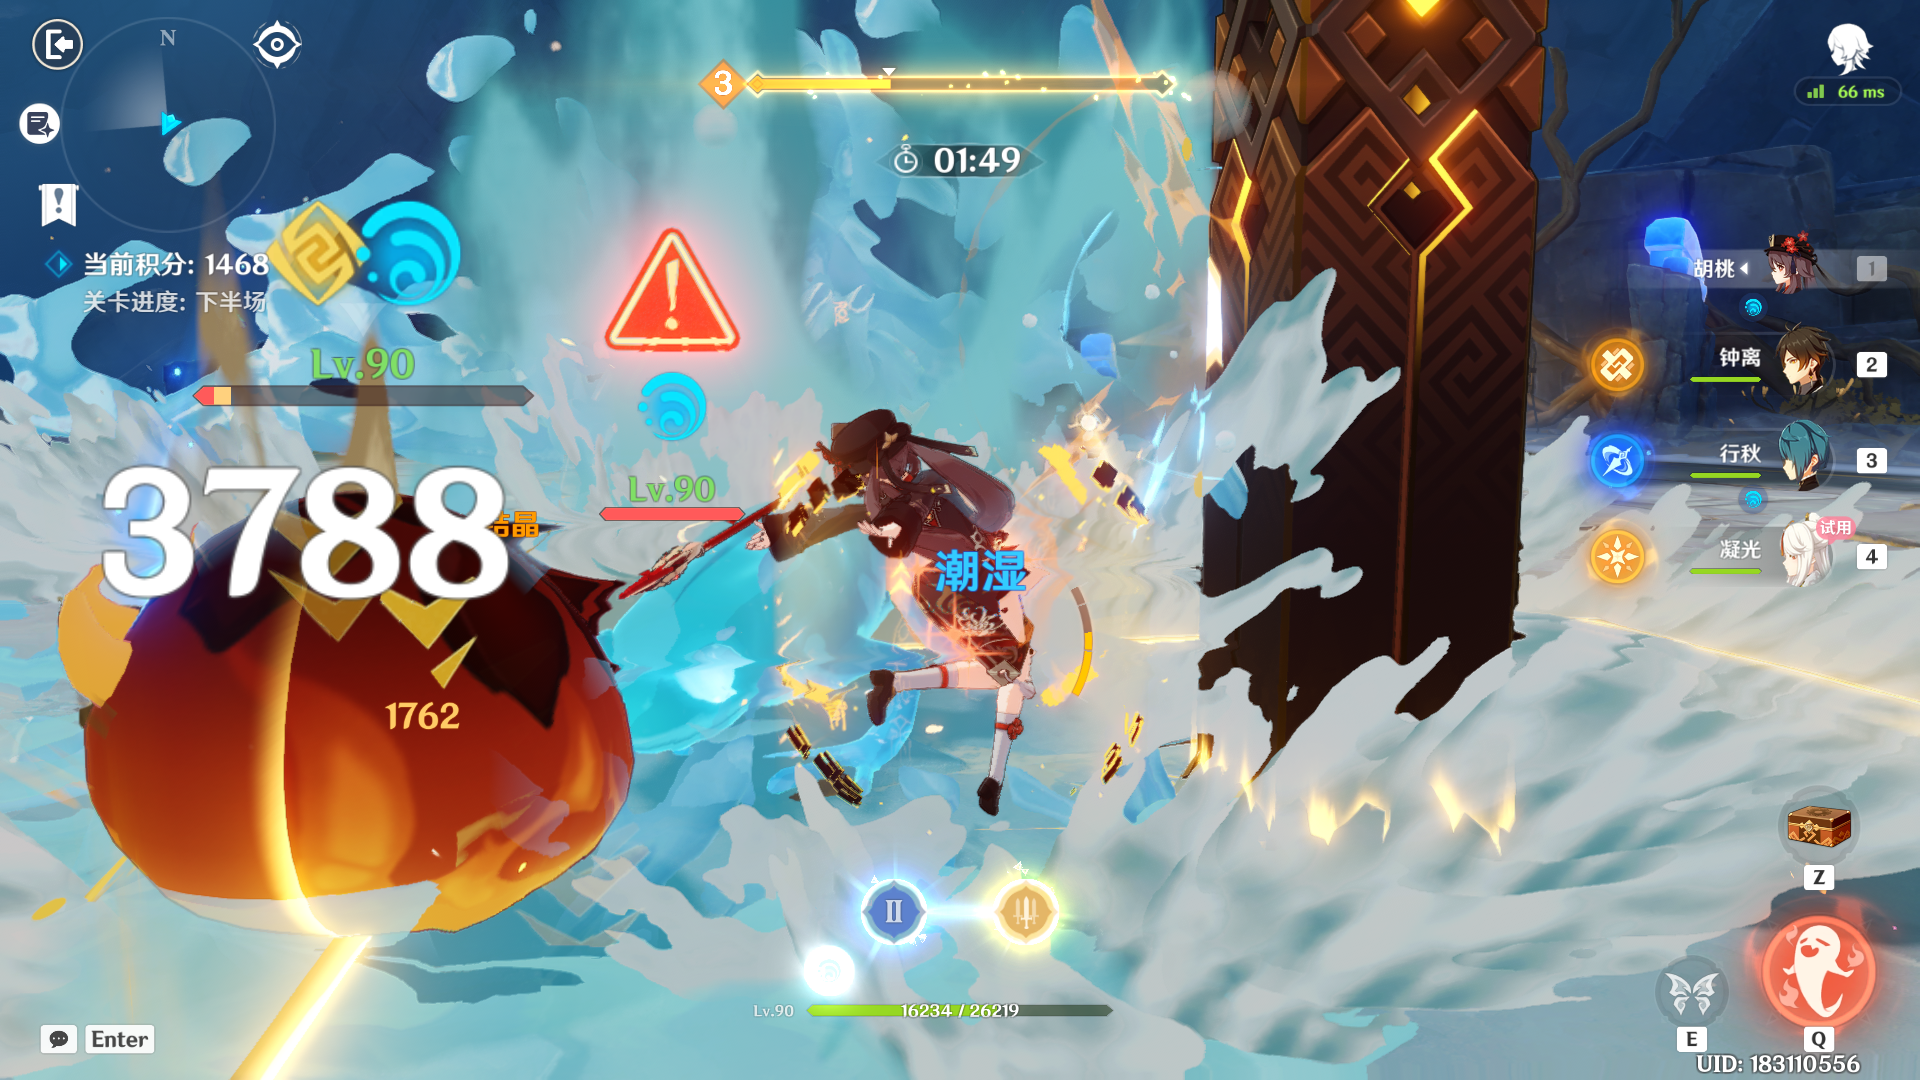character: (702, 382, 1116, 864)
slime: (55, 480, 658, 906)
